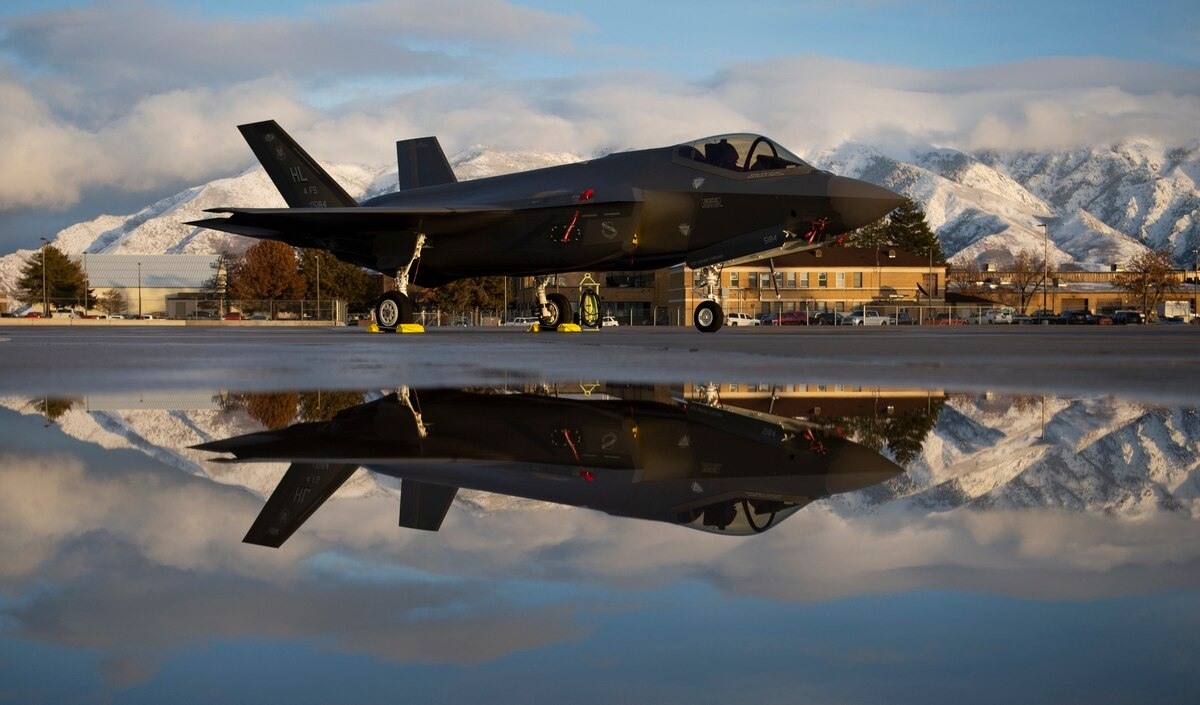F-35 Lightning: (161, 63, 912, 350)
